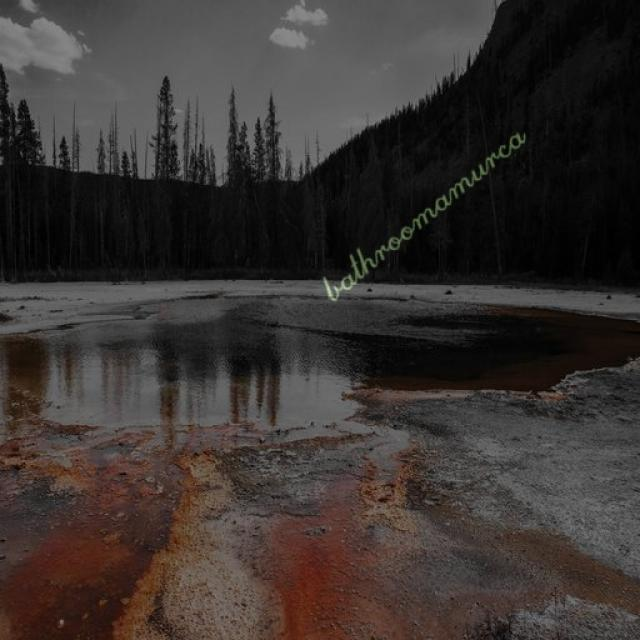watermark: (324, 110, 526, 308)
